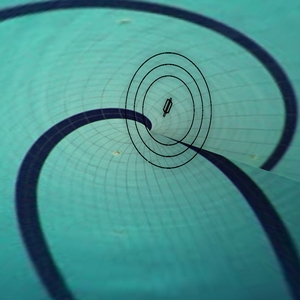circle: (107, 41, 228, 186)
submarine: (157, 94, 178, 120)
